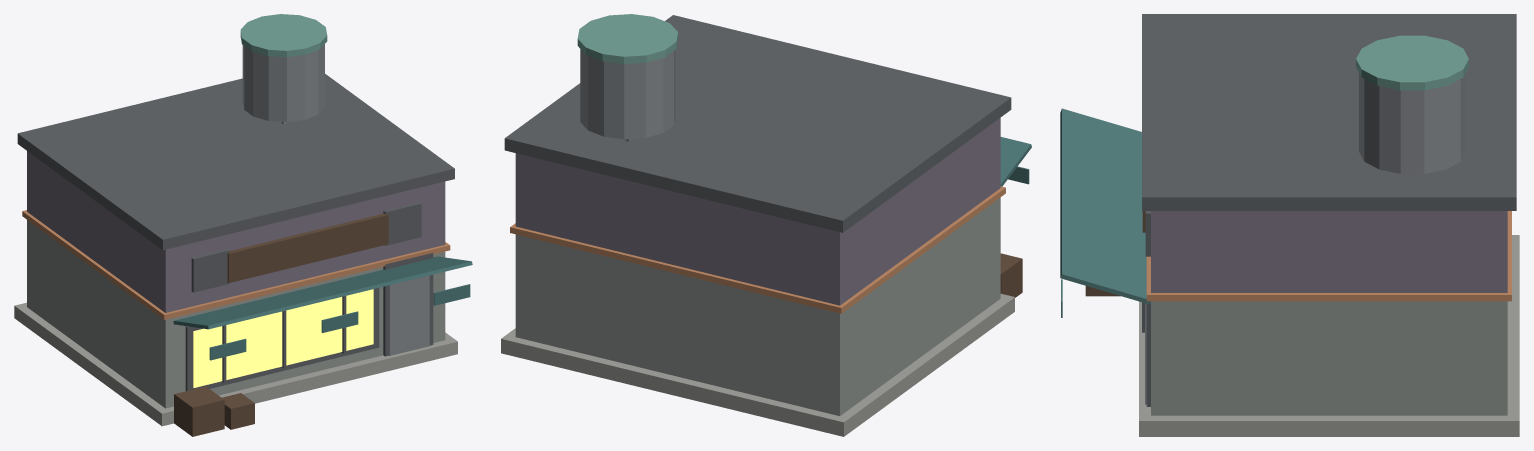
The model's file is shop.glb.
The picture shows the model from 3 angles, left to right: view 1: azimuth 30°, elevation 25°; view 2: azimuth 150°, elevation 25°; view 3: azimuth 270°, elevation 25°; orthographic projection. The views are drawn at different scales.
Parts seen in each view (by area): view 1: shop; view 2: shop; view 3: shop.
Boxes of the visible parts, box(x1,y1,x2,y2) form: shop: box(14, 14, 472, 436); shop: box(501, 14, 1031, 436); shop: box(1060, 14, 1519, 436).
Size of the model in its own units: 7.4 by 6.22 by 7.72.
